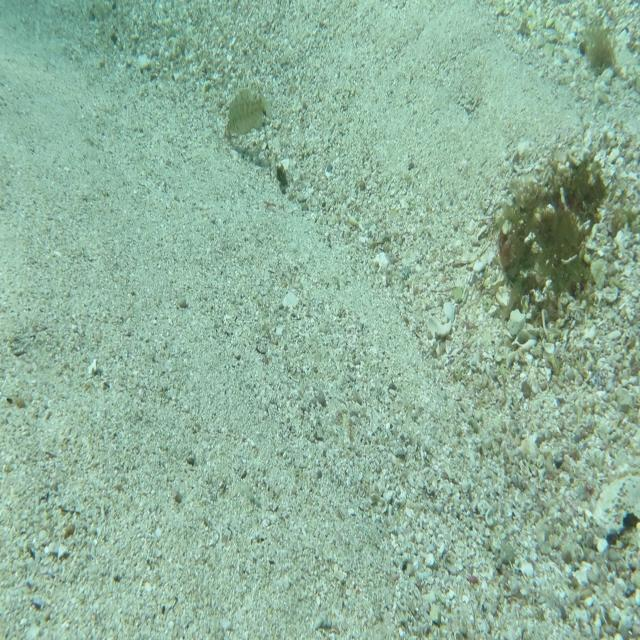NIP_OUT: (225, 86, 273, 138)
core_nest: (565, 160, 600, 195)
nest: (502, 141, 610, 330)
vegetation: (581, 15, 618, 79), (274, 162, 291, 188), (222, 124, 234, 145)
